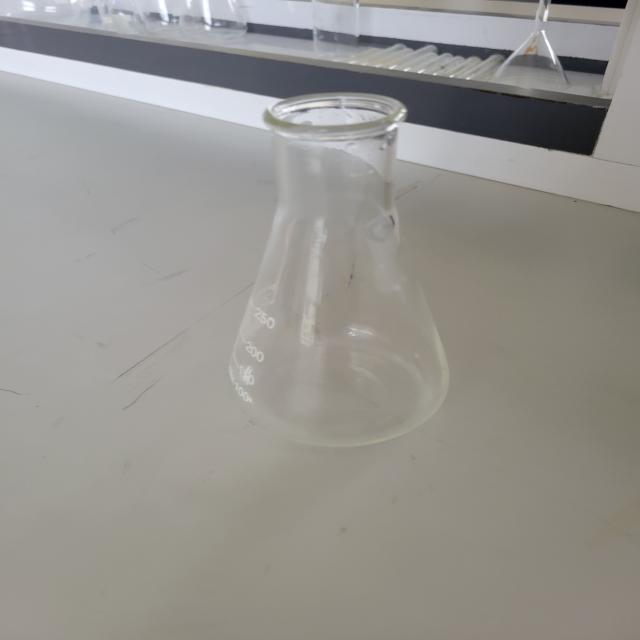Conical_Flask: (221, 67, 474, 475)
